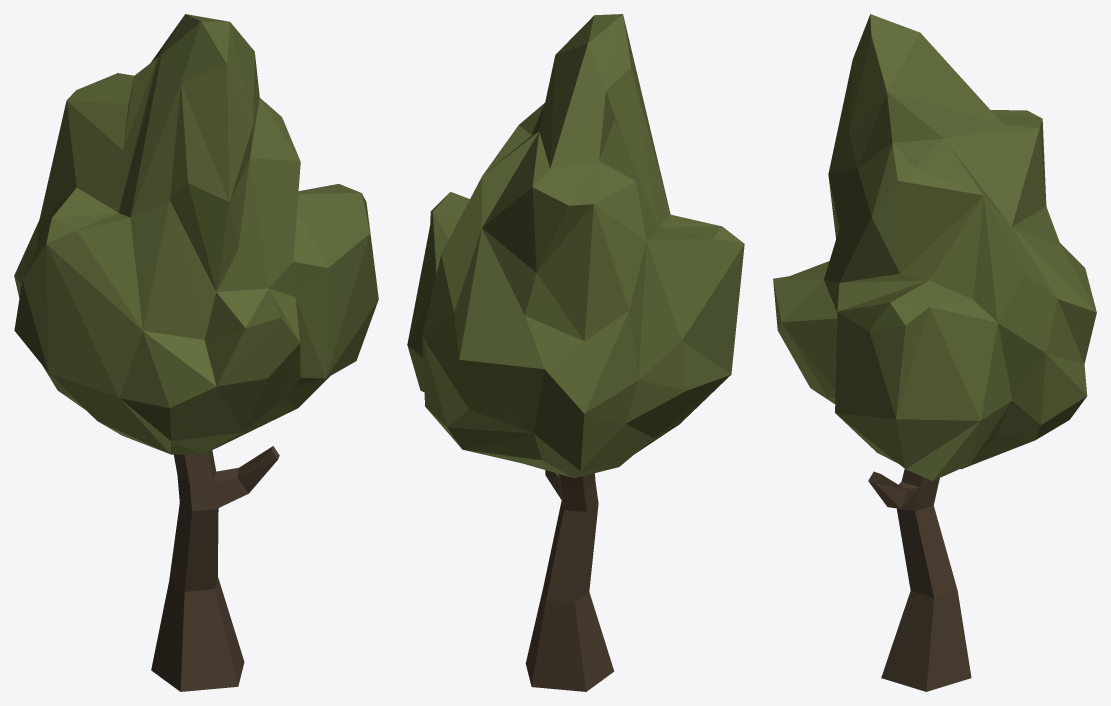
File: tree_a.glb
3 renders of one model, left to right at view 1: azimuth 30°, elevation 25°; view 2: azimuth 150°, elevation 25°; view 3: azimuth 270°, elevation 25°, orthographic. The views are drawn at different scales.
Parts seen in each view (by area): view 1: SM_Env_Tree_01; view 2: SM_Env_Tree_01; view 3: SM_Env_Tree_01.
Boxes of the visible parts, left/top/right/bottom form: SM_Env_Tree_01: left=14, top=14, right=378, bottom=691; SM_Env_Tree_01: left=407, top=14, right=744, bottom=691; SM_Env_Tree_01: left=773, top=14, right=1096, bottom=691.
Size of the model in its own units: 318 by 621 by 283.
Materials: 1 (1 with a texture image).
